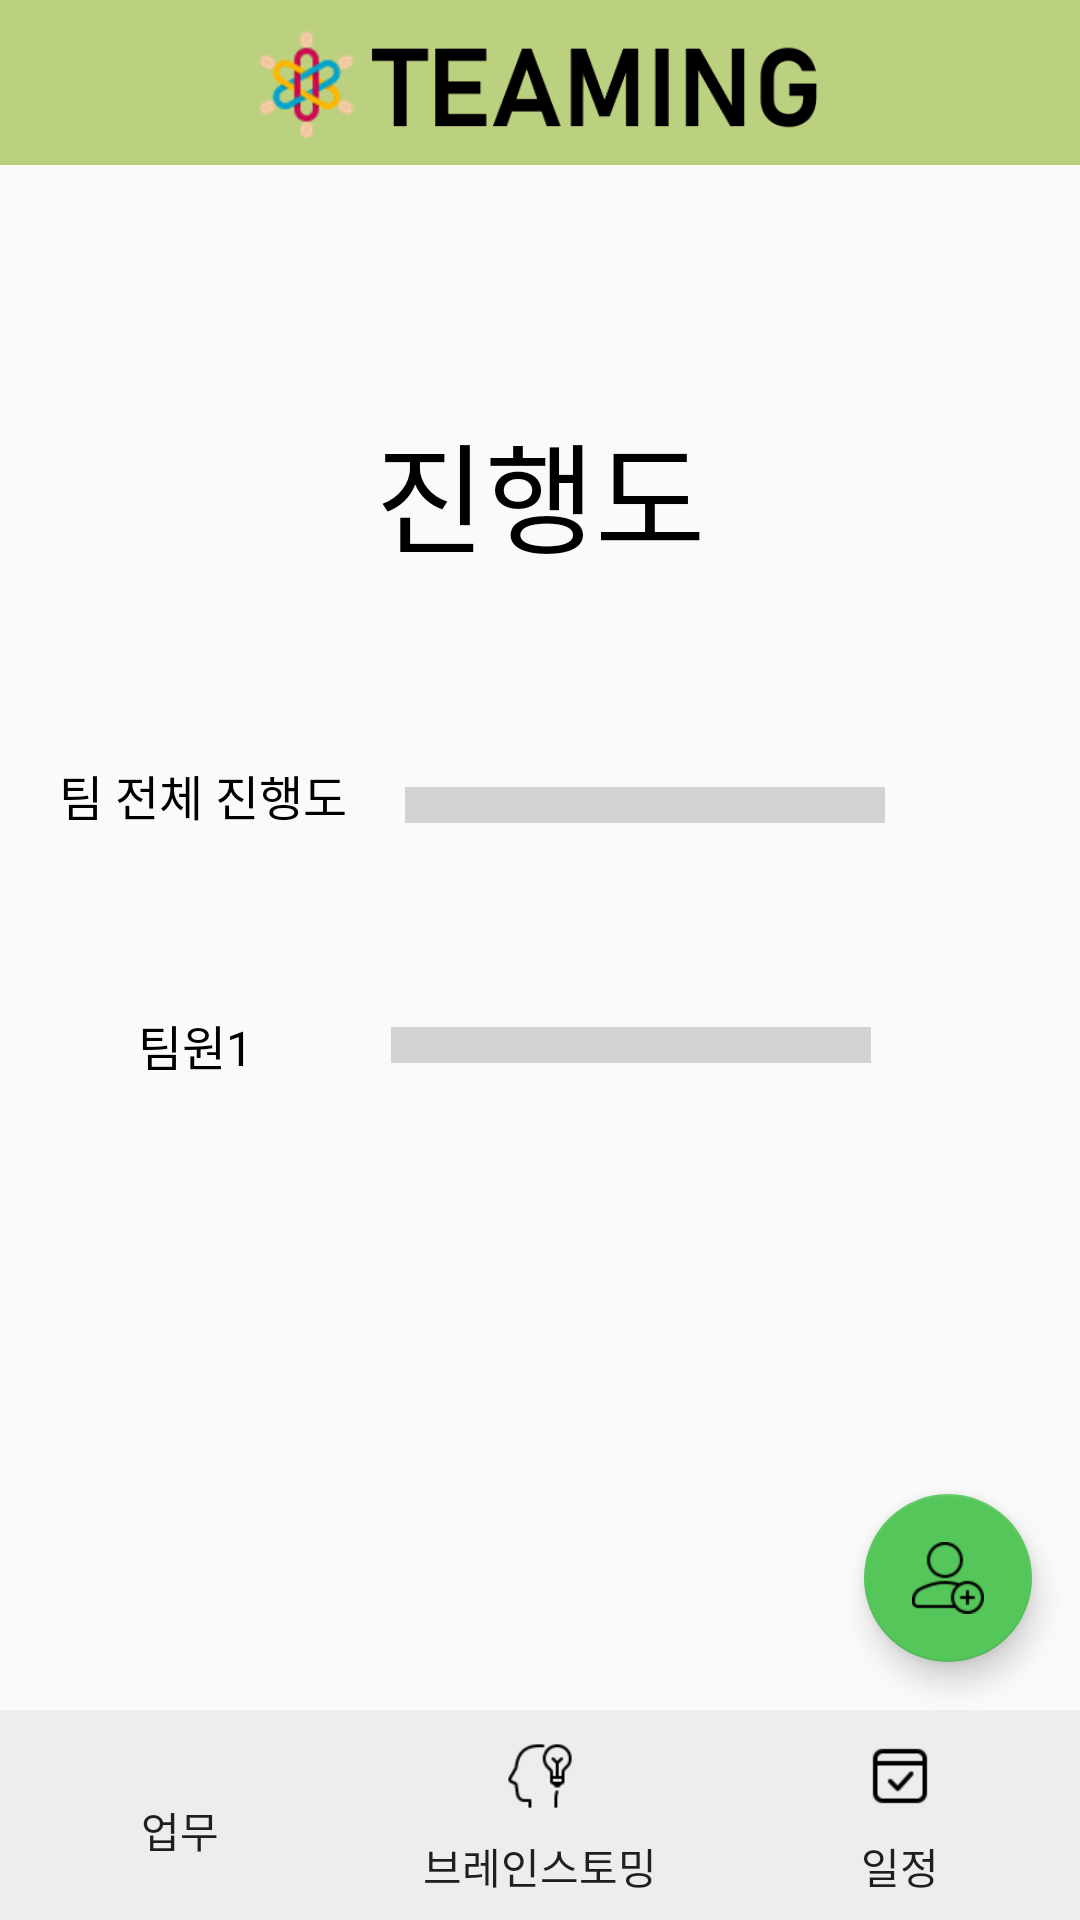

Icon bounding boxes for this 1080px×1920px phone screenshot, format (x1, y1, x2, y2):
team add size: (864, 1494, 1032, 1662)
